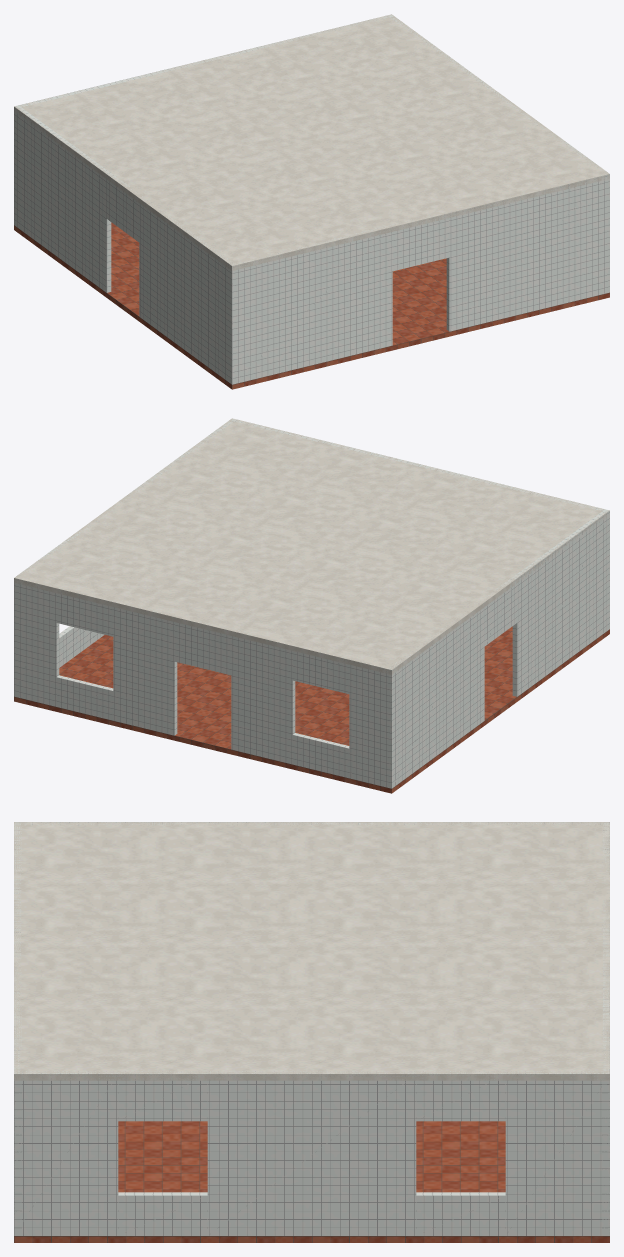
File: room-kitchen.obj
3 renders of one model, top to bottom at view 1: azimuth 30°, elevation 25°; view 2: azimuth 150°, elevation 25°; view 3: azimuth 270°, elevation 25°, orthographic. The views are drawn at different scales.
Parts seen in each view (by area): view 1: ceiling, wall, floor; view 2: ceiling, wall, floor; view 3: ceiling, wall, floor.
Boxes of the visible parts, left/top/right/bottom form: ceiling: left=14, top=14, right=609, bottom=270; wall: left=14, top=14, right=609, bottom=384; floor: left=14, top=222, right=609, bottom=389; ceiling: left=14, top=418, right=609, bottom=674; wall: left=14, top=418, right=609, bottom=788; floor: left=14, top=626, right=609, bottom=793; ceiling: left=14, top=822, right=609, bottom=1080; wall: left=14, top=822, right=609, bottom=1235; floor: left=14, top=1121, right=609, bottom=1242.
Bounding box in the file's own units: 16 × 5 × 16.
3 materials, 3 textured.
